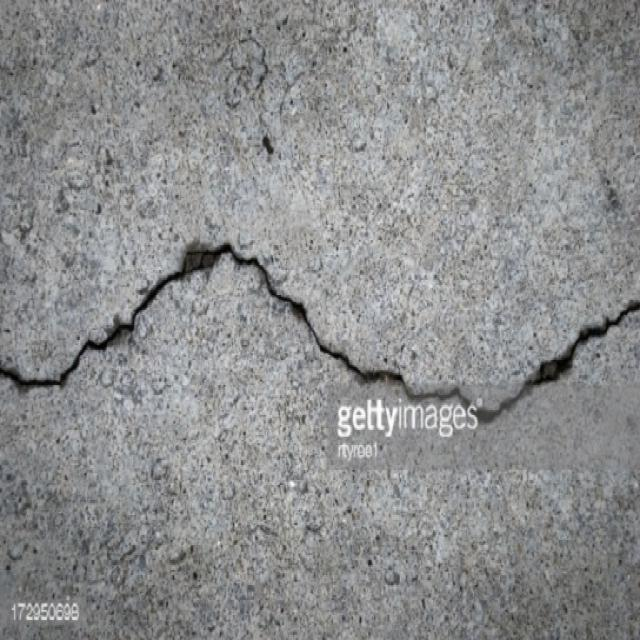crack: (0, 241, 639, 430)
